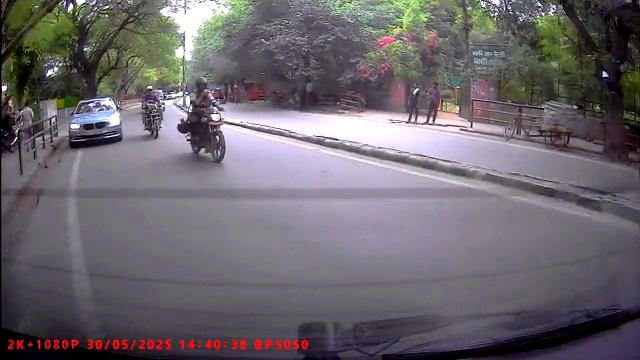motorcycle_with_helmet: (177, 75, 231, 166), (139, 83, 169, 143)
